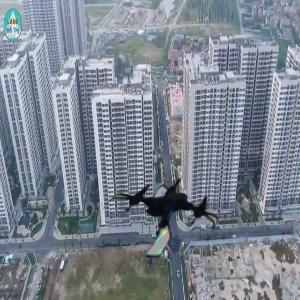drone: (113, 162, 218, 267)
